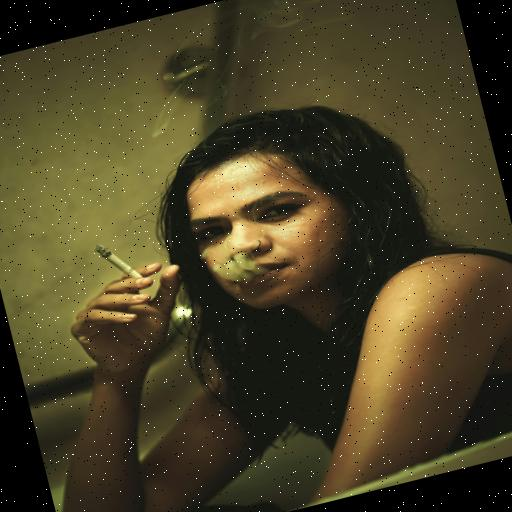terdeteksi pegang rokok: (44, 206, 200, 365)
